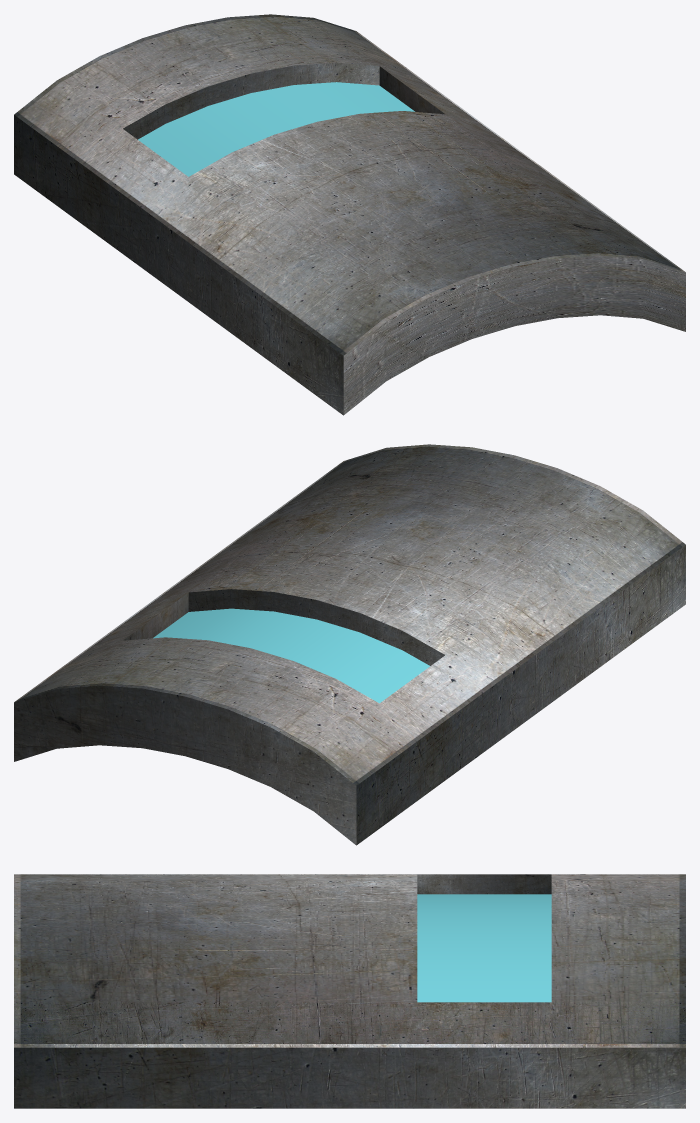
File: Bouclier anti-Emeute.fbx
3 renders of one model, top to bottom at view 1: azimuth 30°, elevation 25°; view 2: azimuth 150°, elevation 25°; view 3: azimuth 270°, elevation 25°, orthographic.
Parts seen in each view (by area): view 1: Cube.054; view 2: Cube.054; view 3: Cube.054.
Boxes of the visible parts, bbox=[...] form: Cube.054: bbox=[14, 14, 685, 415]; Cube.054: bbox=[14, 444, 685, 845]; Cube.054: bbox=[14, 874, 685, 1108].
Size of the model in its own units: 120 by 41.71 by 200.
